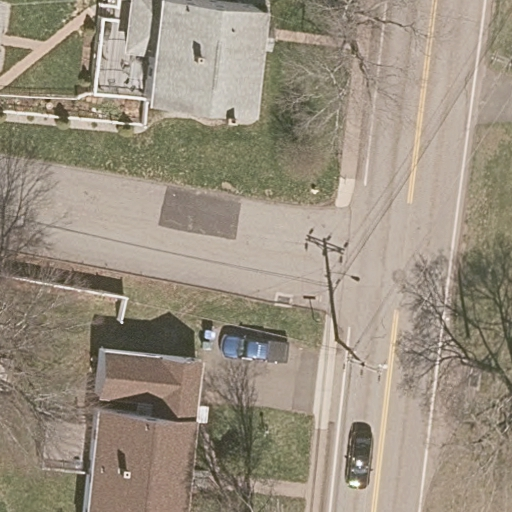DT: (334, 335, 389, 381)
